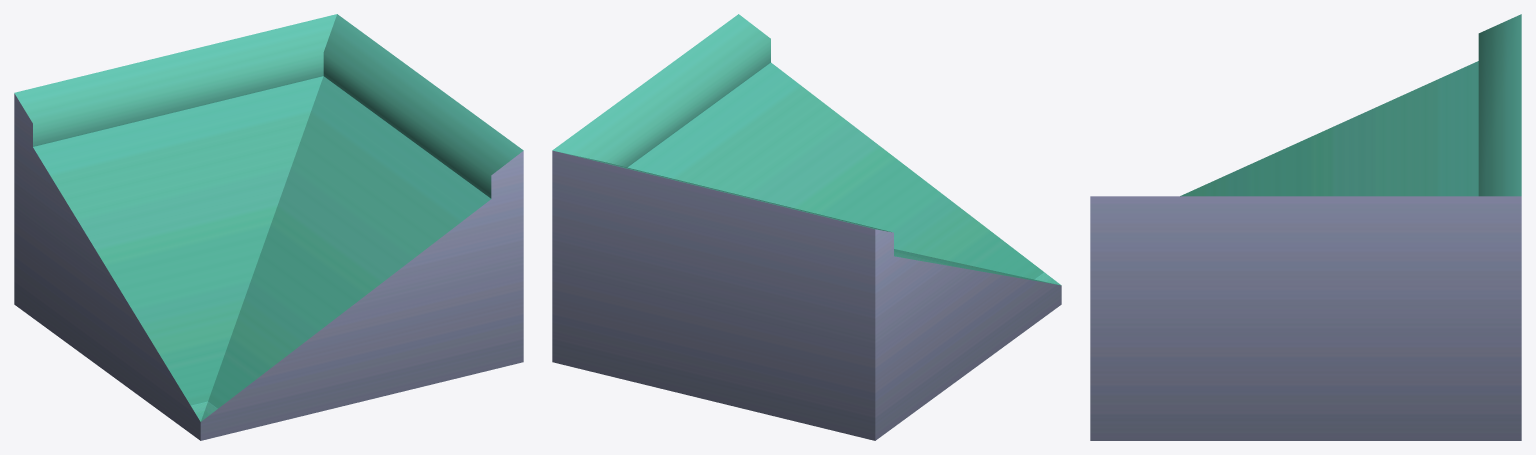
Rendered from roof-corner-inner.glb.
3 views of the same model, side by side, from view 1: azimuth 30°, elevation 25°; view 2: azimuth 150°, elevation 25°; view 3: azimuth 270°, elevation 25° (orthographic). The views are drawn at different scales.
Visible parts, largest first — view 1: roof-corner-inner; view 2: roof-corner-inner; view 3: roof-corner-inner.
Boxes of the visible parts, box(x1,y1,x2,y2) form: roof-corner-inner: box(14, 14, 523, 440); roof-corner-inner: box(552, 14, 1061, 440); roof-corner-inner: box(1090, 14, 1521, 440).
Bounding box in the file's own units: 1 × 0.6259 × 1.
1 material, 1 textured.
